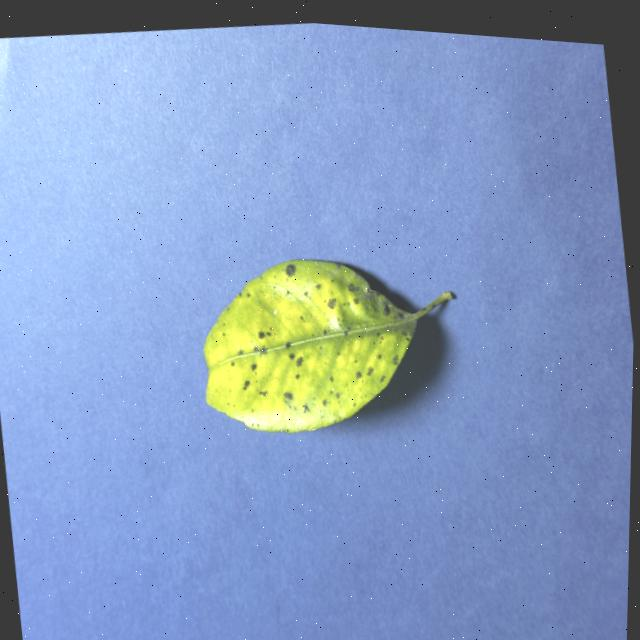sooty_mold: (204, 258, 454, 431)
